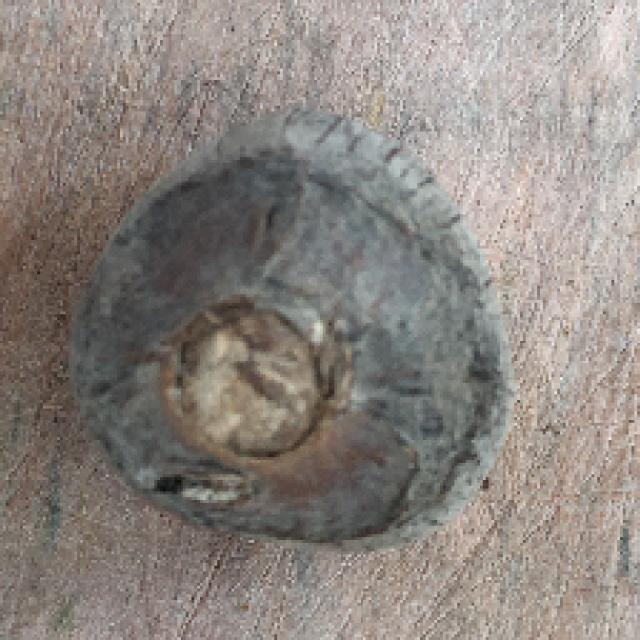damagedHazelnut: (72, 130, 510, 538)
